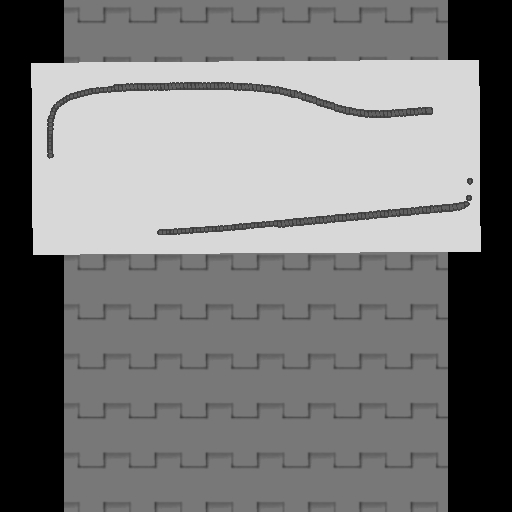Defect: (47, 156, 159, 237)
